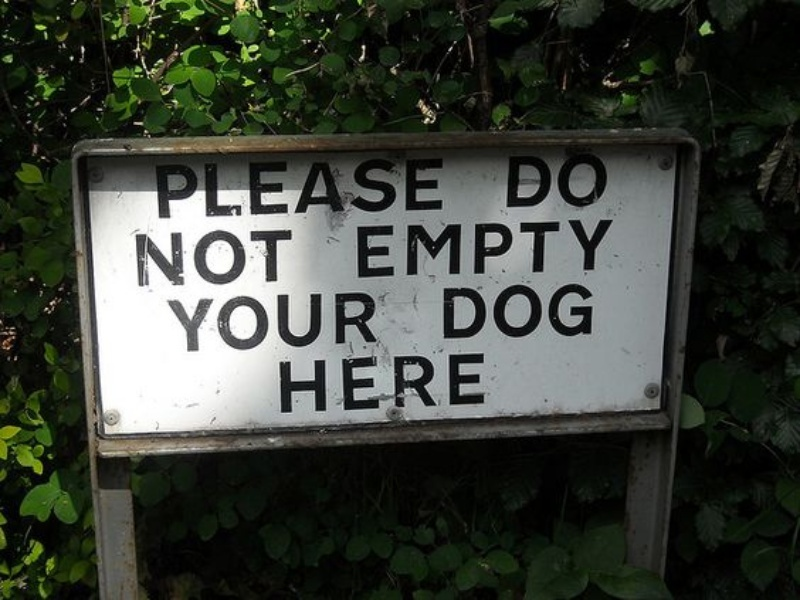text: (161, 157, 176, 220), (177, 157, 192, 220), (193, 157, 208, 220), (209, 157, 224, 220), (225, 157, 240, 220), (241, 157, 256, 220), (257, 157, 272, 220), (273, 157, 288, 220), (289, 157, 304, 220), (305, 157, 320, 220), (321, 157, 336, 220), (337, 157, 352, 220), (353, 157, 368, 220), (369, 157, 384, 220), (385, 157, 400, 220), (401, 157, 416, 220), (417, 157, 432, 220), (177, 291, 192, 354), (193, 291, 208, 354), (209, 291, 224, 354), (225, 291, 240, 354), (241, 291, 256, 354), (257, 291, 272, 354), (273, 291, 288, 354), (289, 291, 304, 354), (305, 291, 320, 354), (321, 291, 336, 354), (337, 291, 352, 354), (353, 291, 368, 354), (369, 218, 384, 279), (385, 218, 400, 279), (401, 218, 416, 279), (417, 218, 432, 279), (433, 218, 448, 279), (449, 218, 464, 279), (465, 218, 480, 279), (481, 218, 496, 279), (497, 218, 512, 279), (513, 218, 528, 279), (529, 218, 544, 279), (545, 218, 560, 279), (561, 218, 576, 279), (577, 218, 592, 279), (593, 218, 608, 279), (289, 352, 304, 413), (305, 352, 320, 413), (321, 352, 336, 413), (337, 352, 352, 413), (353, 352, 368, 413), (369, 352, 384, 413), (385, 352, 400, 413), (401, 352, 416, 413), (417, 352, 432, 413), (433, 352, 448, 413), (449, 352, 464, 413), (465, 352, 480, 413), (449, 280, 464, 340), (465, 280, 480, 340), (481, 280, 496, 340), (497, 280, 512, 340), (513, 280, 528, 340), (529, 280, 544, 340), (545, 280, 560, 340), (561, 280, 576, 340), (577, 280, 592, 340), (145, 229, 160, 288), (161, 229, 176, 288), (177, 229, 192, 288), (193, 229, 208, 288), (209, 229, 224, 288), (225, 229, 240, 288), (241, 229, 256, 288), (257, 229, 272, 288), (273, 229, 288, 288), (593, 154, 609, 209), (513, 154, 528, 209), (529, 154, 544, 209), (545, 154, 560, 209), (561, 154, 576, 209), (577, 154, 592, 209), (276, 352, 288, 413), (165, 291, 176, 354), (357, 218, 368, 279), (433, 157, 443, 220), (369, 291, 378, 354), (135, 229, 144, 288), (440, 280, 448, 340), (289, 229, 296, 288), (505, 154, 512, 209), (154, 157, 160, 220), (609, 218, 615, 279), (481, 352, 487, 413), (593, 280, 596, 340)
